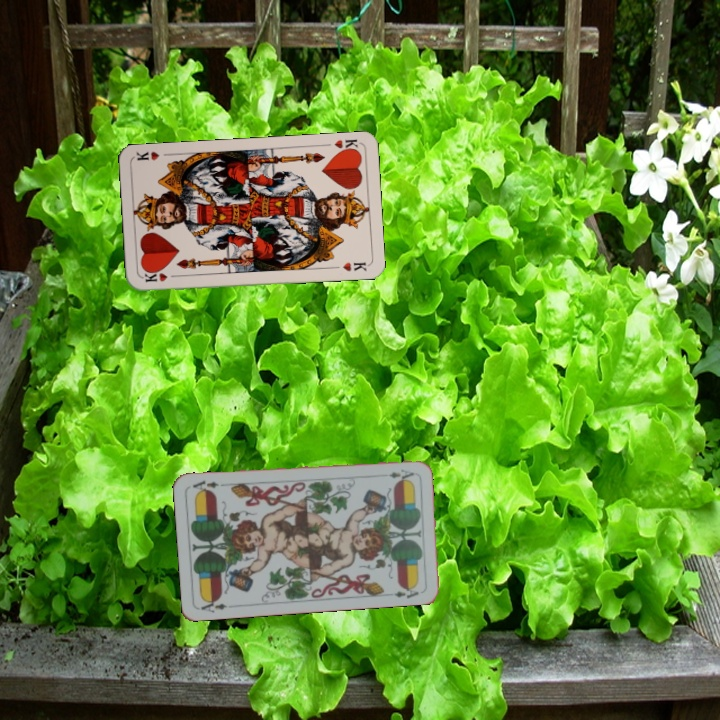EA: (197, 595, 237, 615), (385, 465, 416, 480)
HK: (140, 267, 181, 284), (330, 135, 362, 155)
